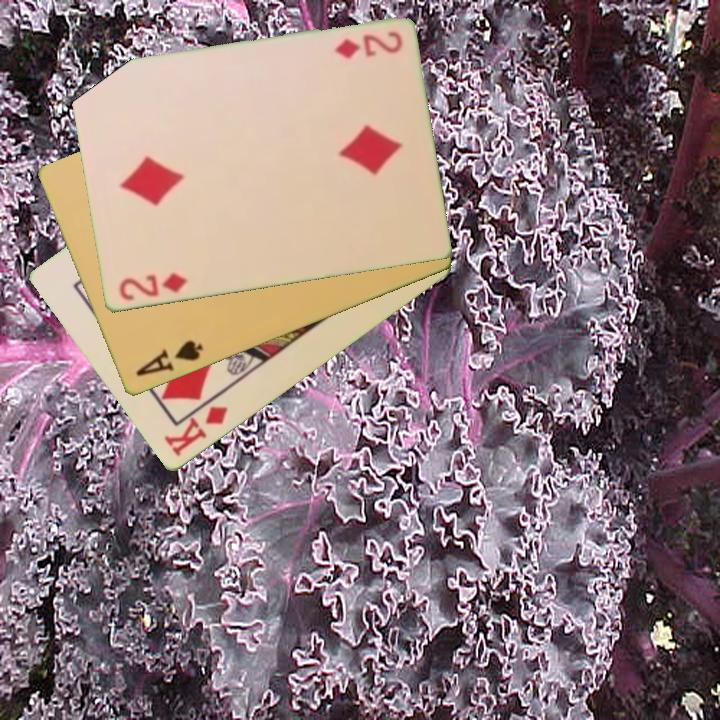2d: (115, 270, 190, 304), (330, 28, 405, 62)
As: (131, 337, 206, 380)
Kd: (160, 403, 231, 460)
